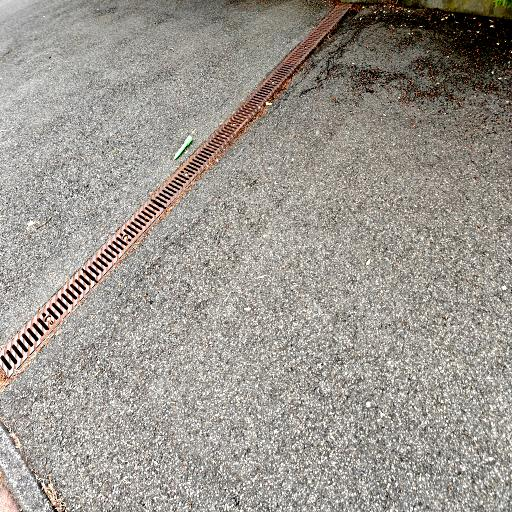Probe-Detection: (174, 136, 193, 160)
